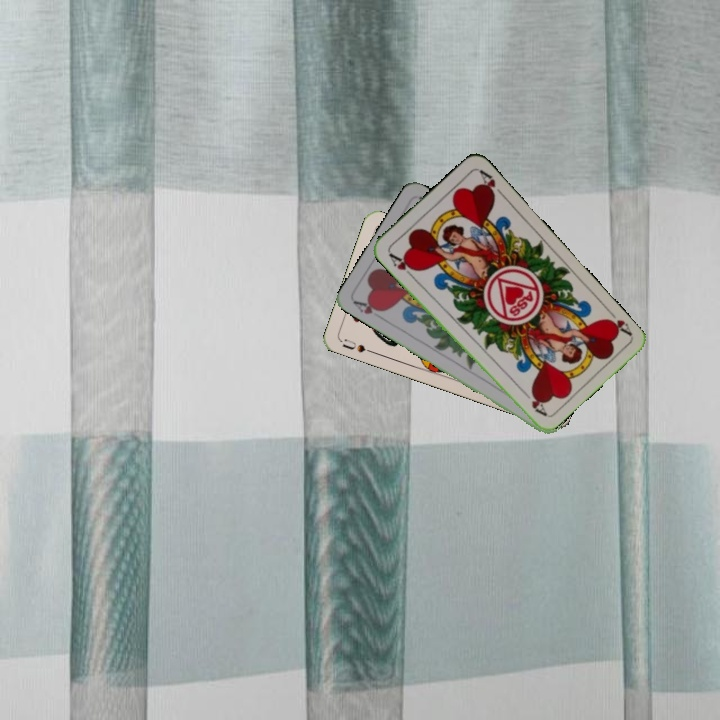HA: (384, 248, 419, 280), (601, 305, 634, 338), (350, 297, 387, 323)
SU: (338, 334, 376, 356)
